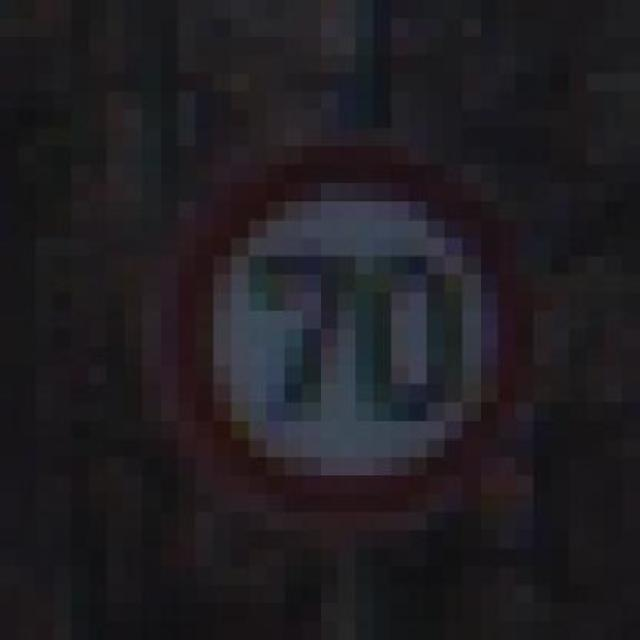forb_speed_over_70: (183, 150, 517, 513)
